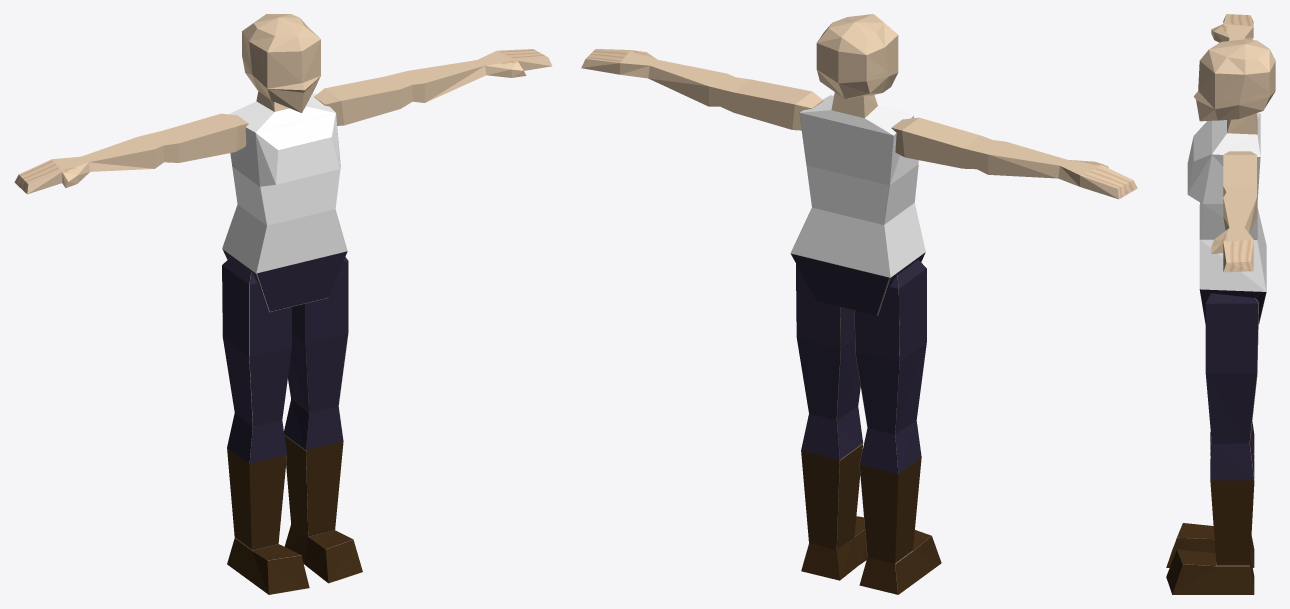
Rendered from BaseFemTemplate.obj.
3 views of the same model, side by side, from view 1: azimuth 30°, elevation 25°; view 2: azimuth 150°, elevation 25°; view 3: azimuth 270°, elevation 25° (orthographic). The views are drawn at different scales.
Visible parts, largest first — view 1: Default; view 2: Default; view 3: Default.
Part boxes in pixels (left/top/right/bottom): Default: left=14, top=14, right=552, bottom=594; Default: left=581, top=14, right=1137, bottom=594; Default: left=1166, top=14, right=1275, bottom=594.
Bounding box in the file's own units: 24.43 × 23.94 × 4.5.
Materials: 1 (1 with a texture image).
